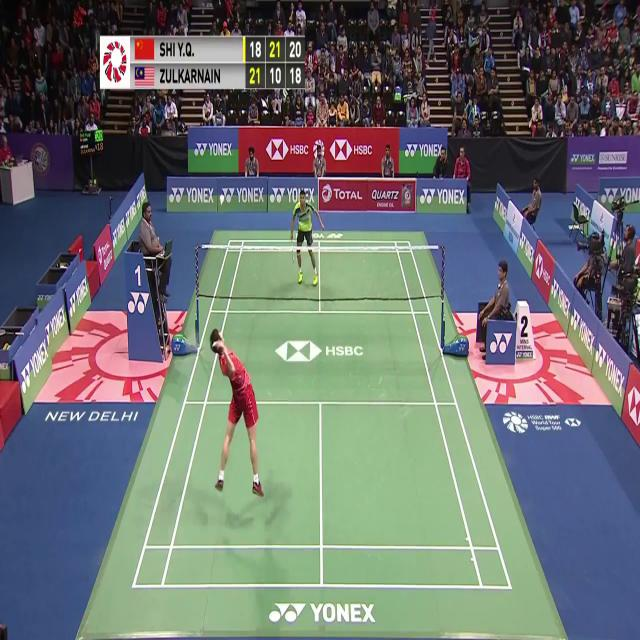Shuttlecock: (218, 198, 224, 209)
